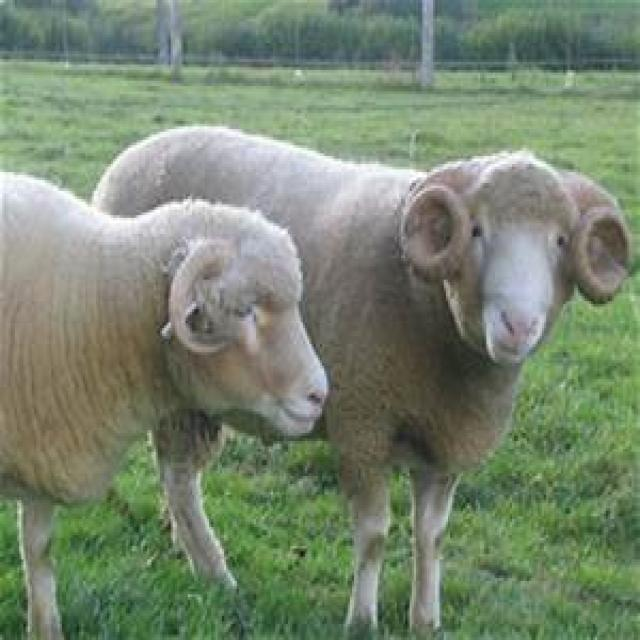animal: (89, 121, 632, 637), (0, 167, 329, 637)
